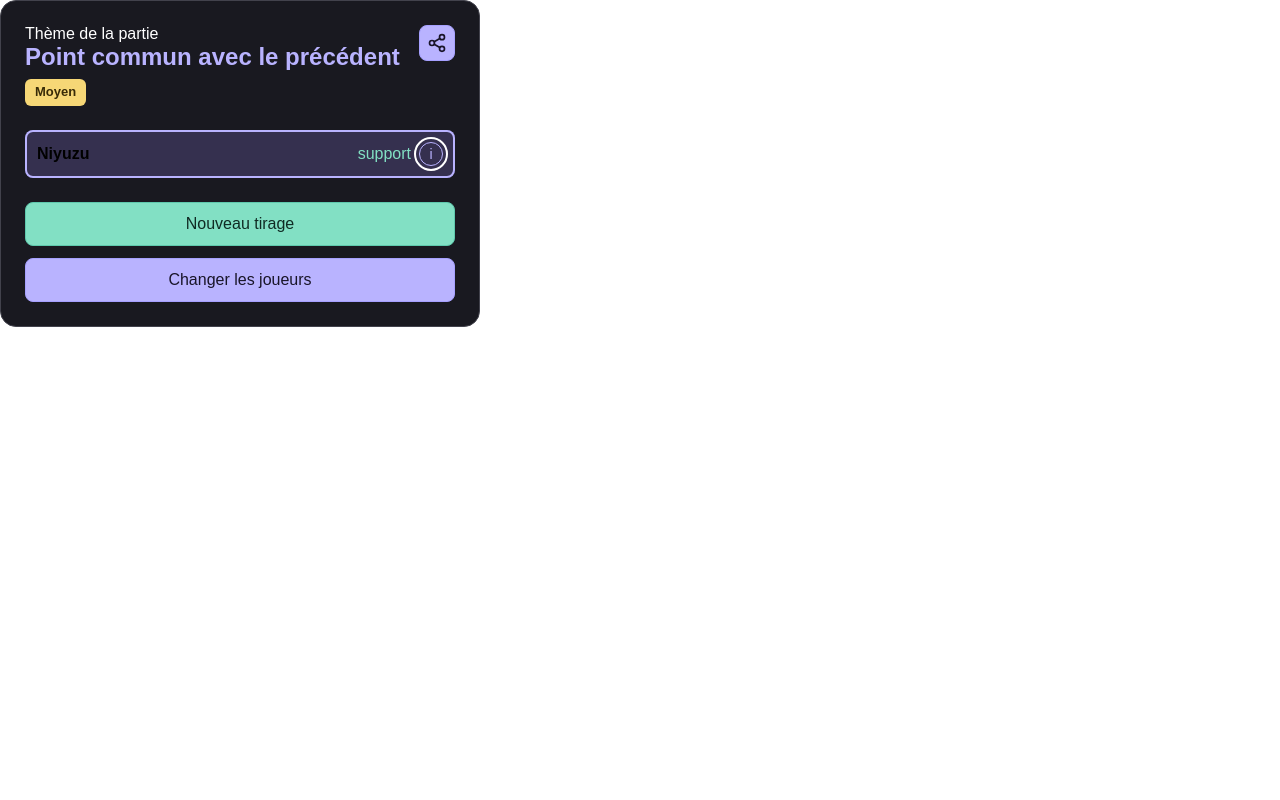
Test: champion popup › explains a contextual theme
The width and height of the screenshot is (1280, 800).
Click the button "i".
click(431, 154)  # box [419, 142, 443, 166]
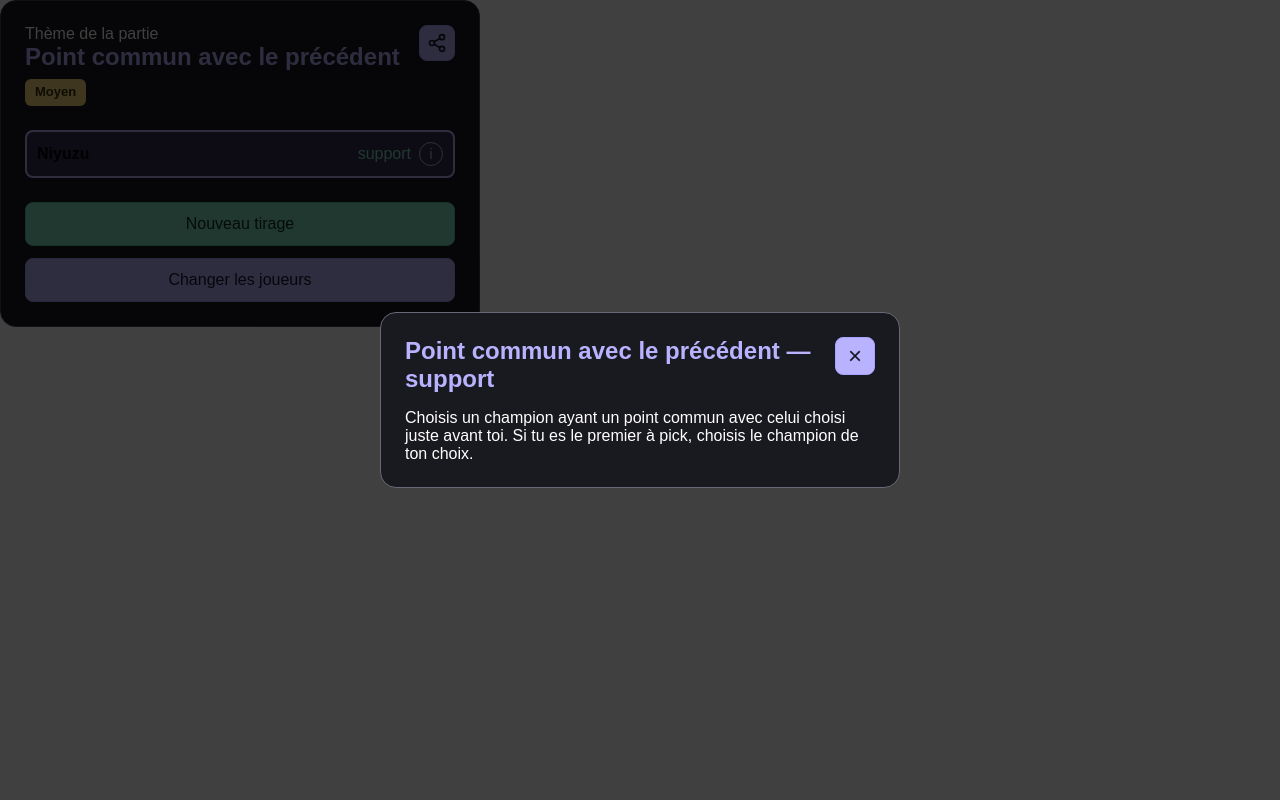
Result: the text "ayant un point commun" is shown at [405, 409, 859, 462]
